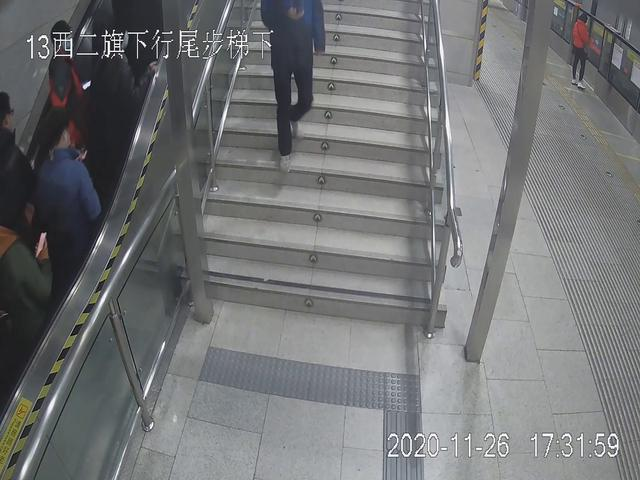person: (257, 1, 350, 171), (29, 109, 103, 299), (563, 11, 598, 93)
